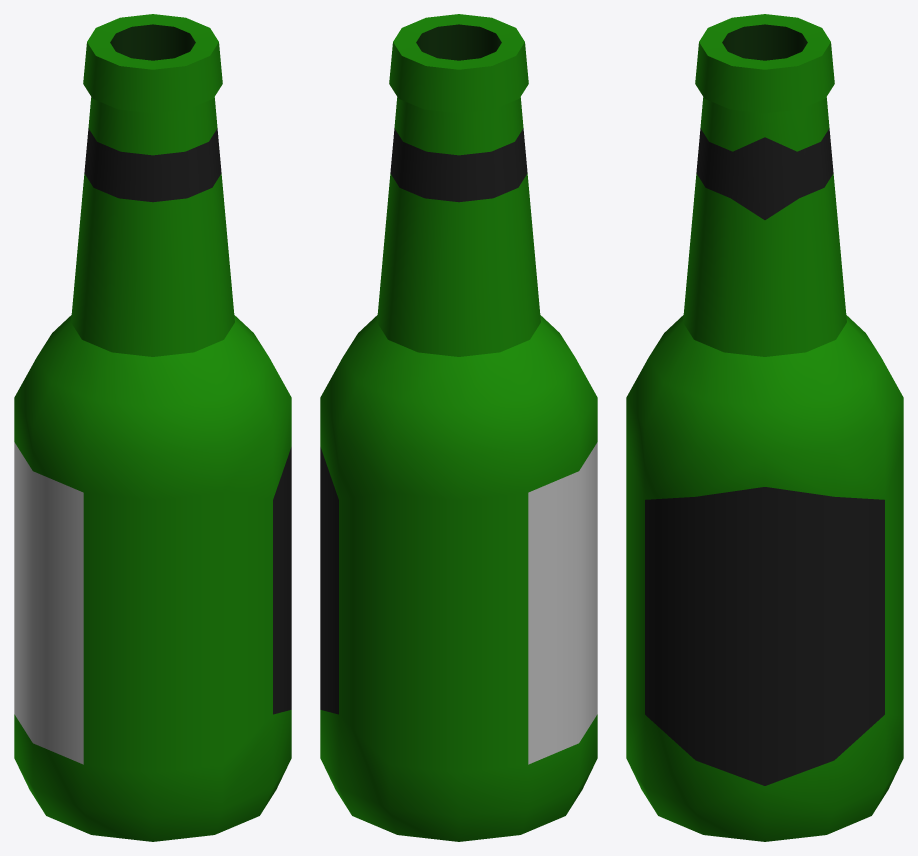
File: GlassBottle.fbx
The picture shows the model from 3 angles, left to right: view 1: azimuth 30°, elevation 25°; view 2: azimuth 150°, elevation 25°; view 3: azimuth 270°, elevation 25°; orthographic projection.
Parts seen in each view (by area): view 1: GlassBottle; view 2: GlassBottle; view 3: GlassBottle.
Boxes of the visible parts, <box> form: GlassBottle: <box>14,14,291,841</box>; GlassBottle: <box>320,14,597,841</box>; GlassBottle: <box>626,14,903,841</box>.
Size of the model in its own units: 57.36 by 57.36 by 171.
